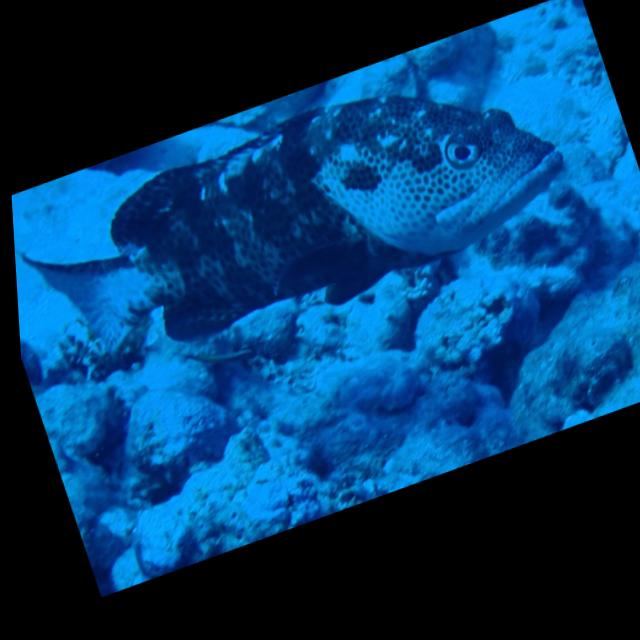Groupers: (4, 24, 590, 403)
